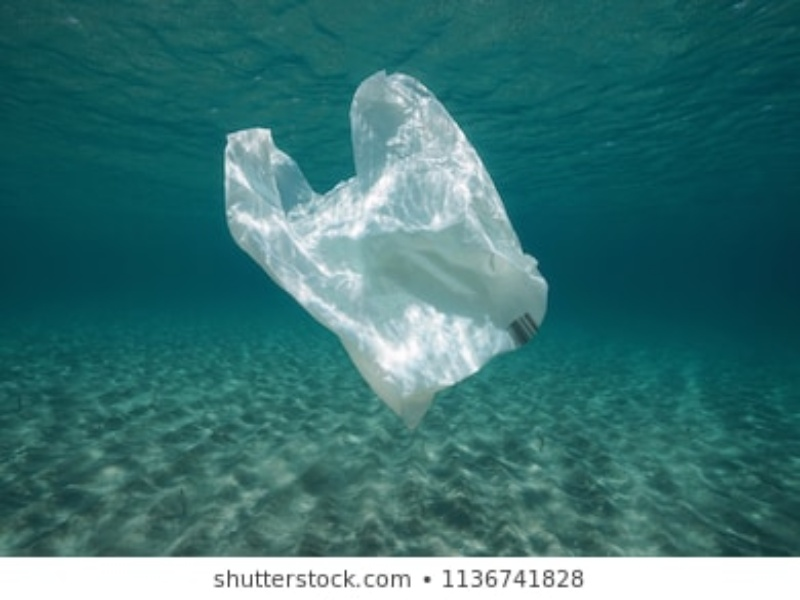plastic-bag: (221, 69, 551, 427)
